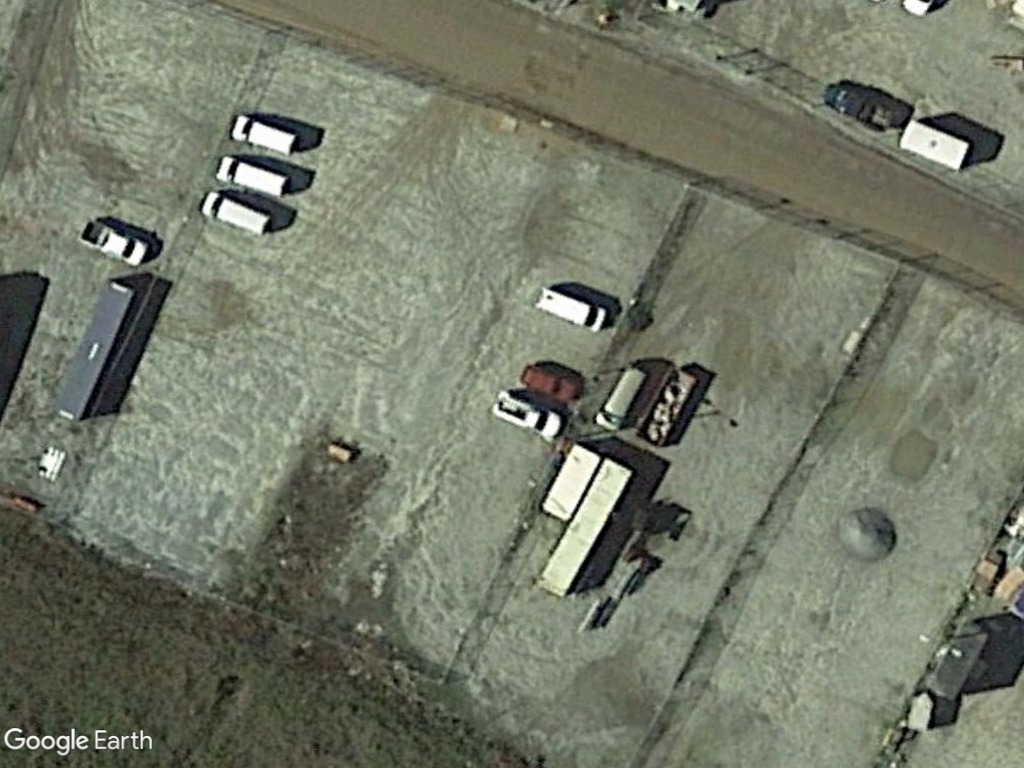car: (488, 393, 563, 443)
other: (65, 215, 155, 268)
van: (193, 187, 278, 242), (529, 286, 614, 339), (593, 358, 650, 434), (226, 110, 305, 159), (212, 153, 289, 200)
